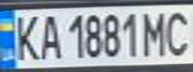1: (63, 11, 84, 60), (121, 9, 142, 57)
8: (81, 10, 106, 58), (103, 10, 124, 58)
A: (33, 11, 63, 61)
C: (160, 7, 193, 57)
K: (9, 11, 42, 62)
M: (139, 7, 172, 57)
